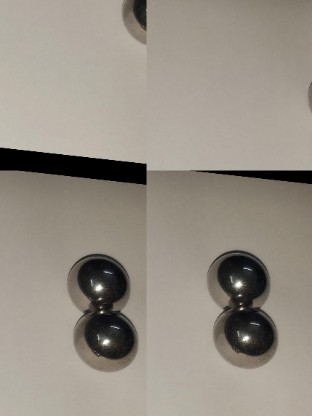ironball: (209, 298, 281, 372), (71, 305, 140, 375), (201, 244, 270, 309), (66, 249, 130, 312), (117, 1, 145, 46)
